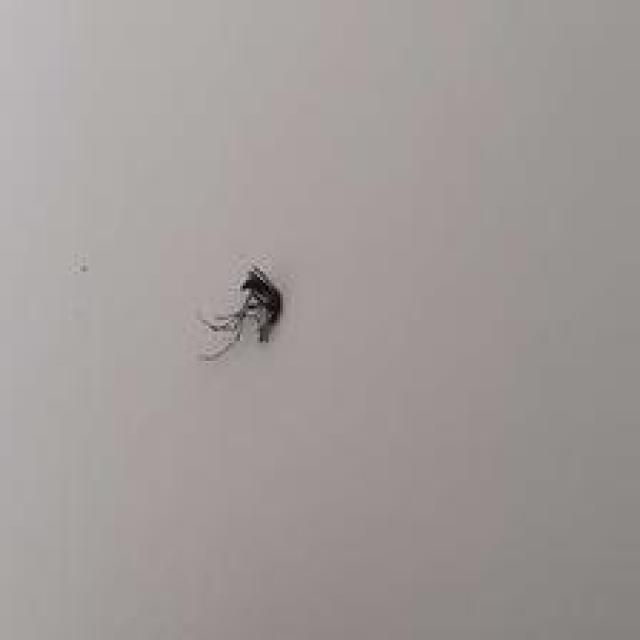Aedes albopictus: (197, 264, 283, 362)
